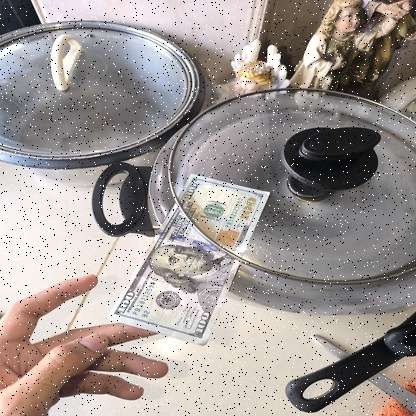one_hundred-front: (103, 170, 272, 346)
